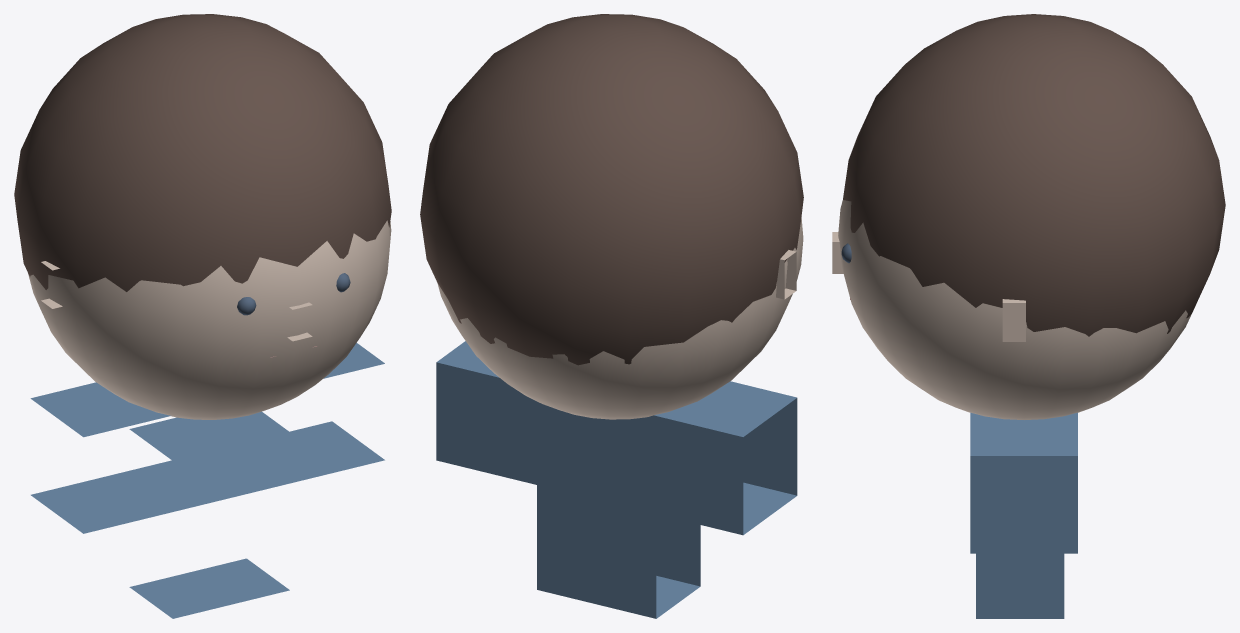
Rendered from person_bust.glb.
3 views of the same model, side by side, from view 1: azimuth 30°, elevation 25°; view 2: azimuth 150°, elevation 25°; view 3: azimuth 270°, elevation 25° (orthographic).
Visible parts, largest first — view 1: person_bust; view 2: person_bust; view 3: person_bust.
Part boxes in pixels (box(x1,y1,x2,y2)): person_bust: box(14, 14, 391, 618); person_bust: box(420, 14, 803, 618); person_bust: box(832, 14, 1225, 618).
Bounding box in the file's own units: 1.98 × 3.15 × 2.01.
